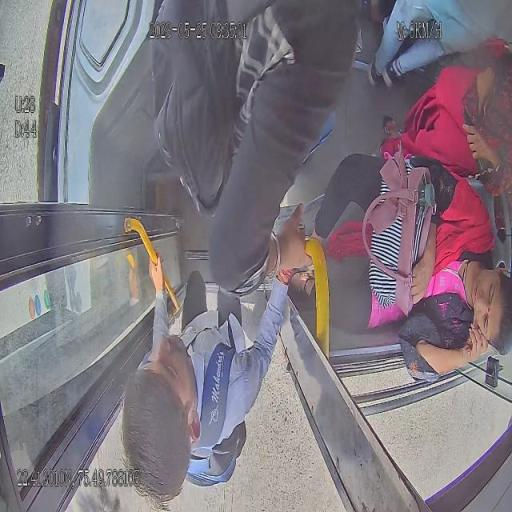persona: (149, 0, 362, 289), (120, 204, 315, 508), (279, 146, 511, 380), (377, 53, 511, 191), (371, 0, 498, 87)
